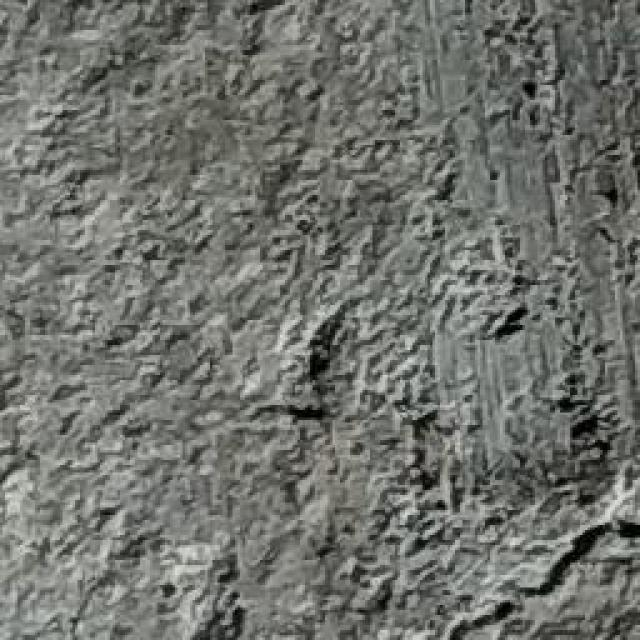Diagonal: (446, 510, 640, 640)
